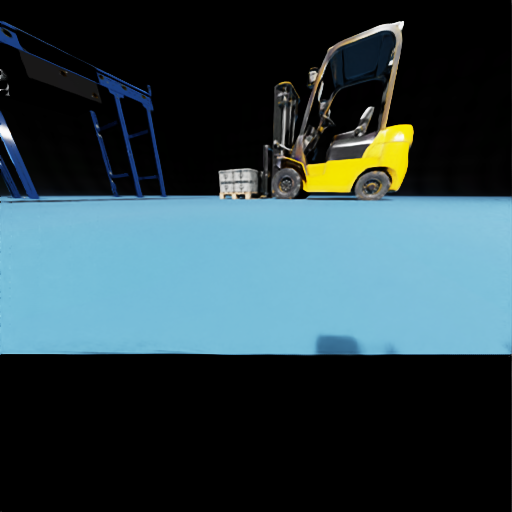transportation_area: (234, 181, 255, 191), (257, 182, 261, 191)
